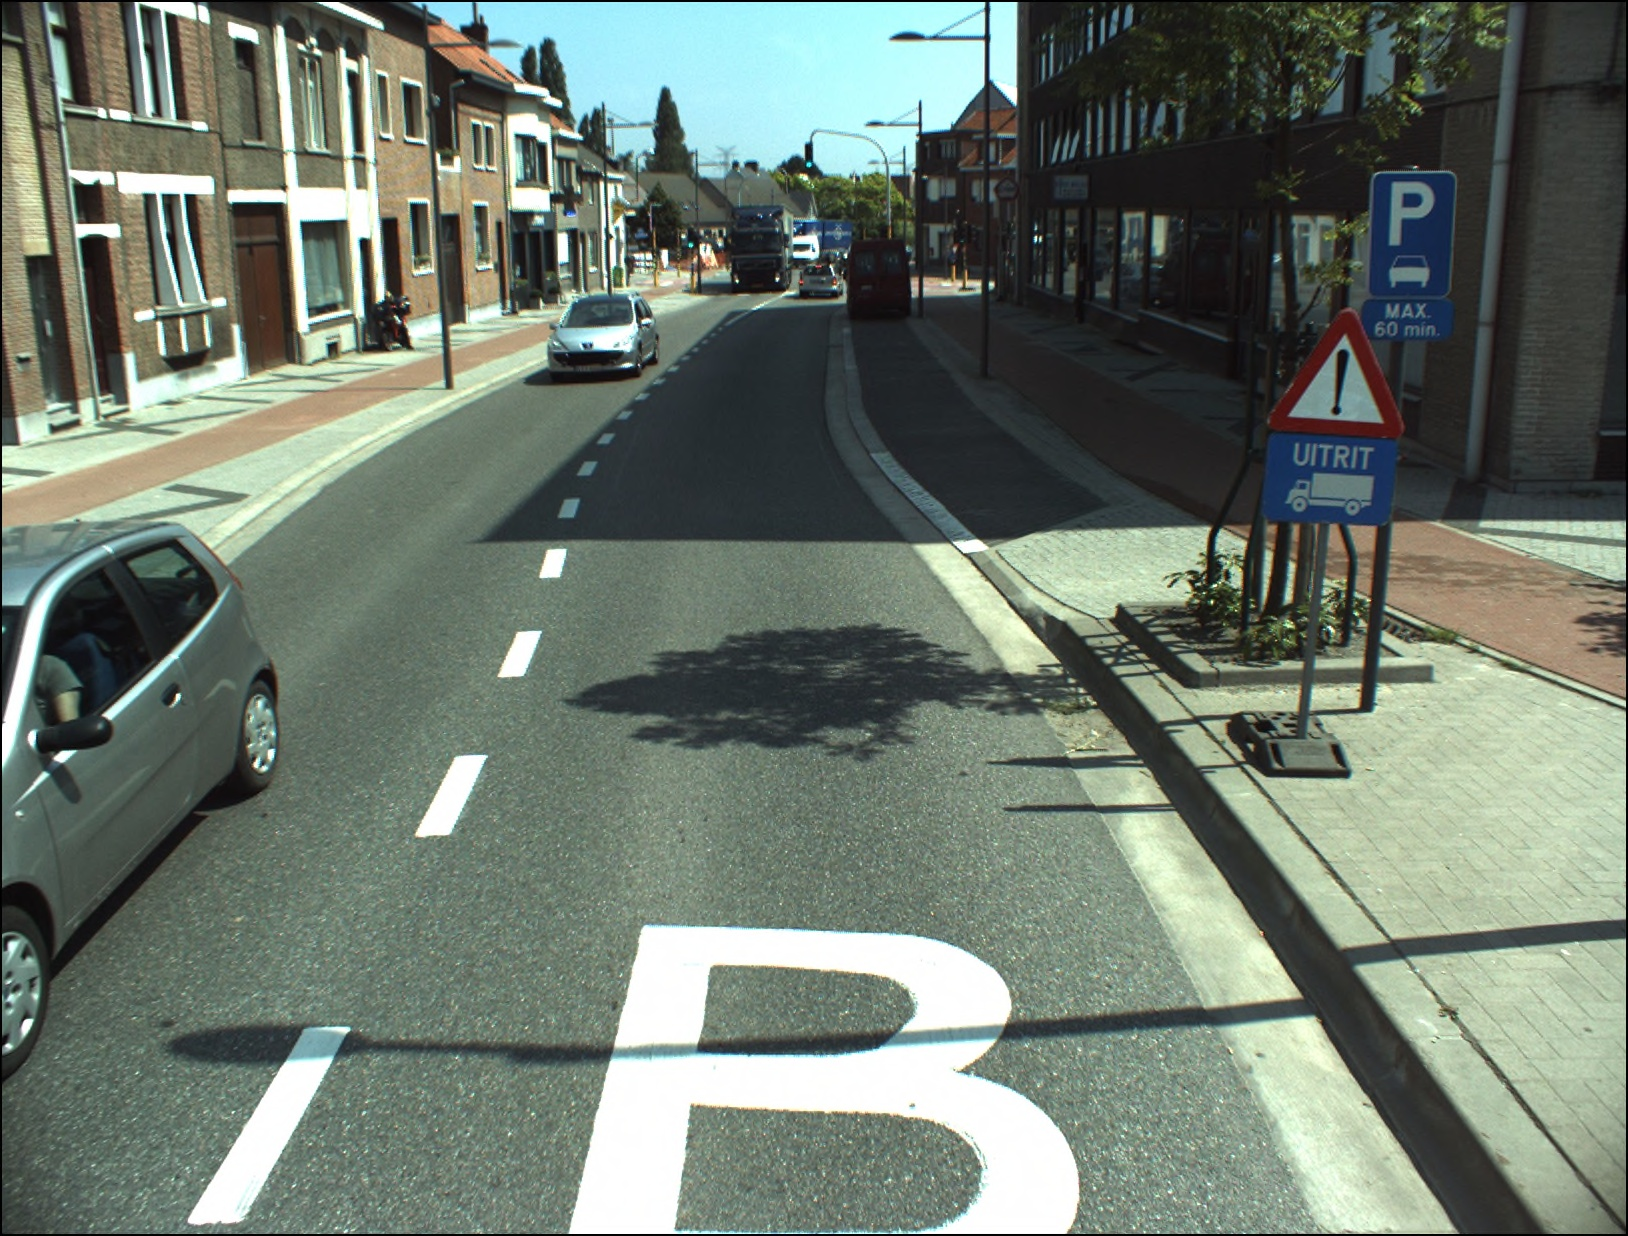danger: (1267, 313, 1403, 436)
parking: (1370, 171, 1455, 296)
